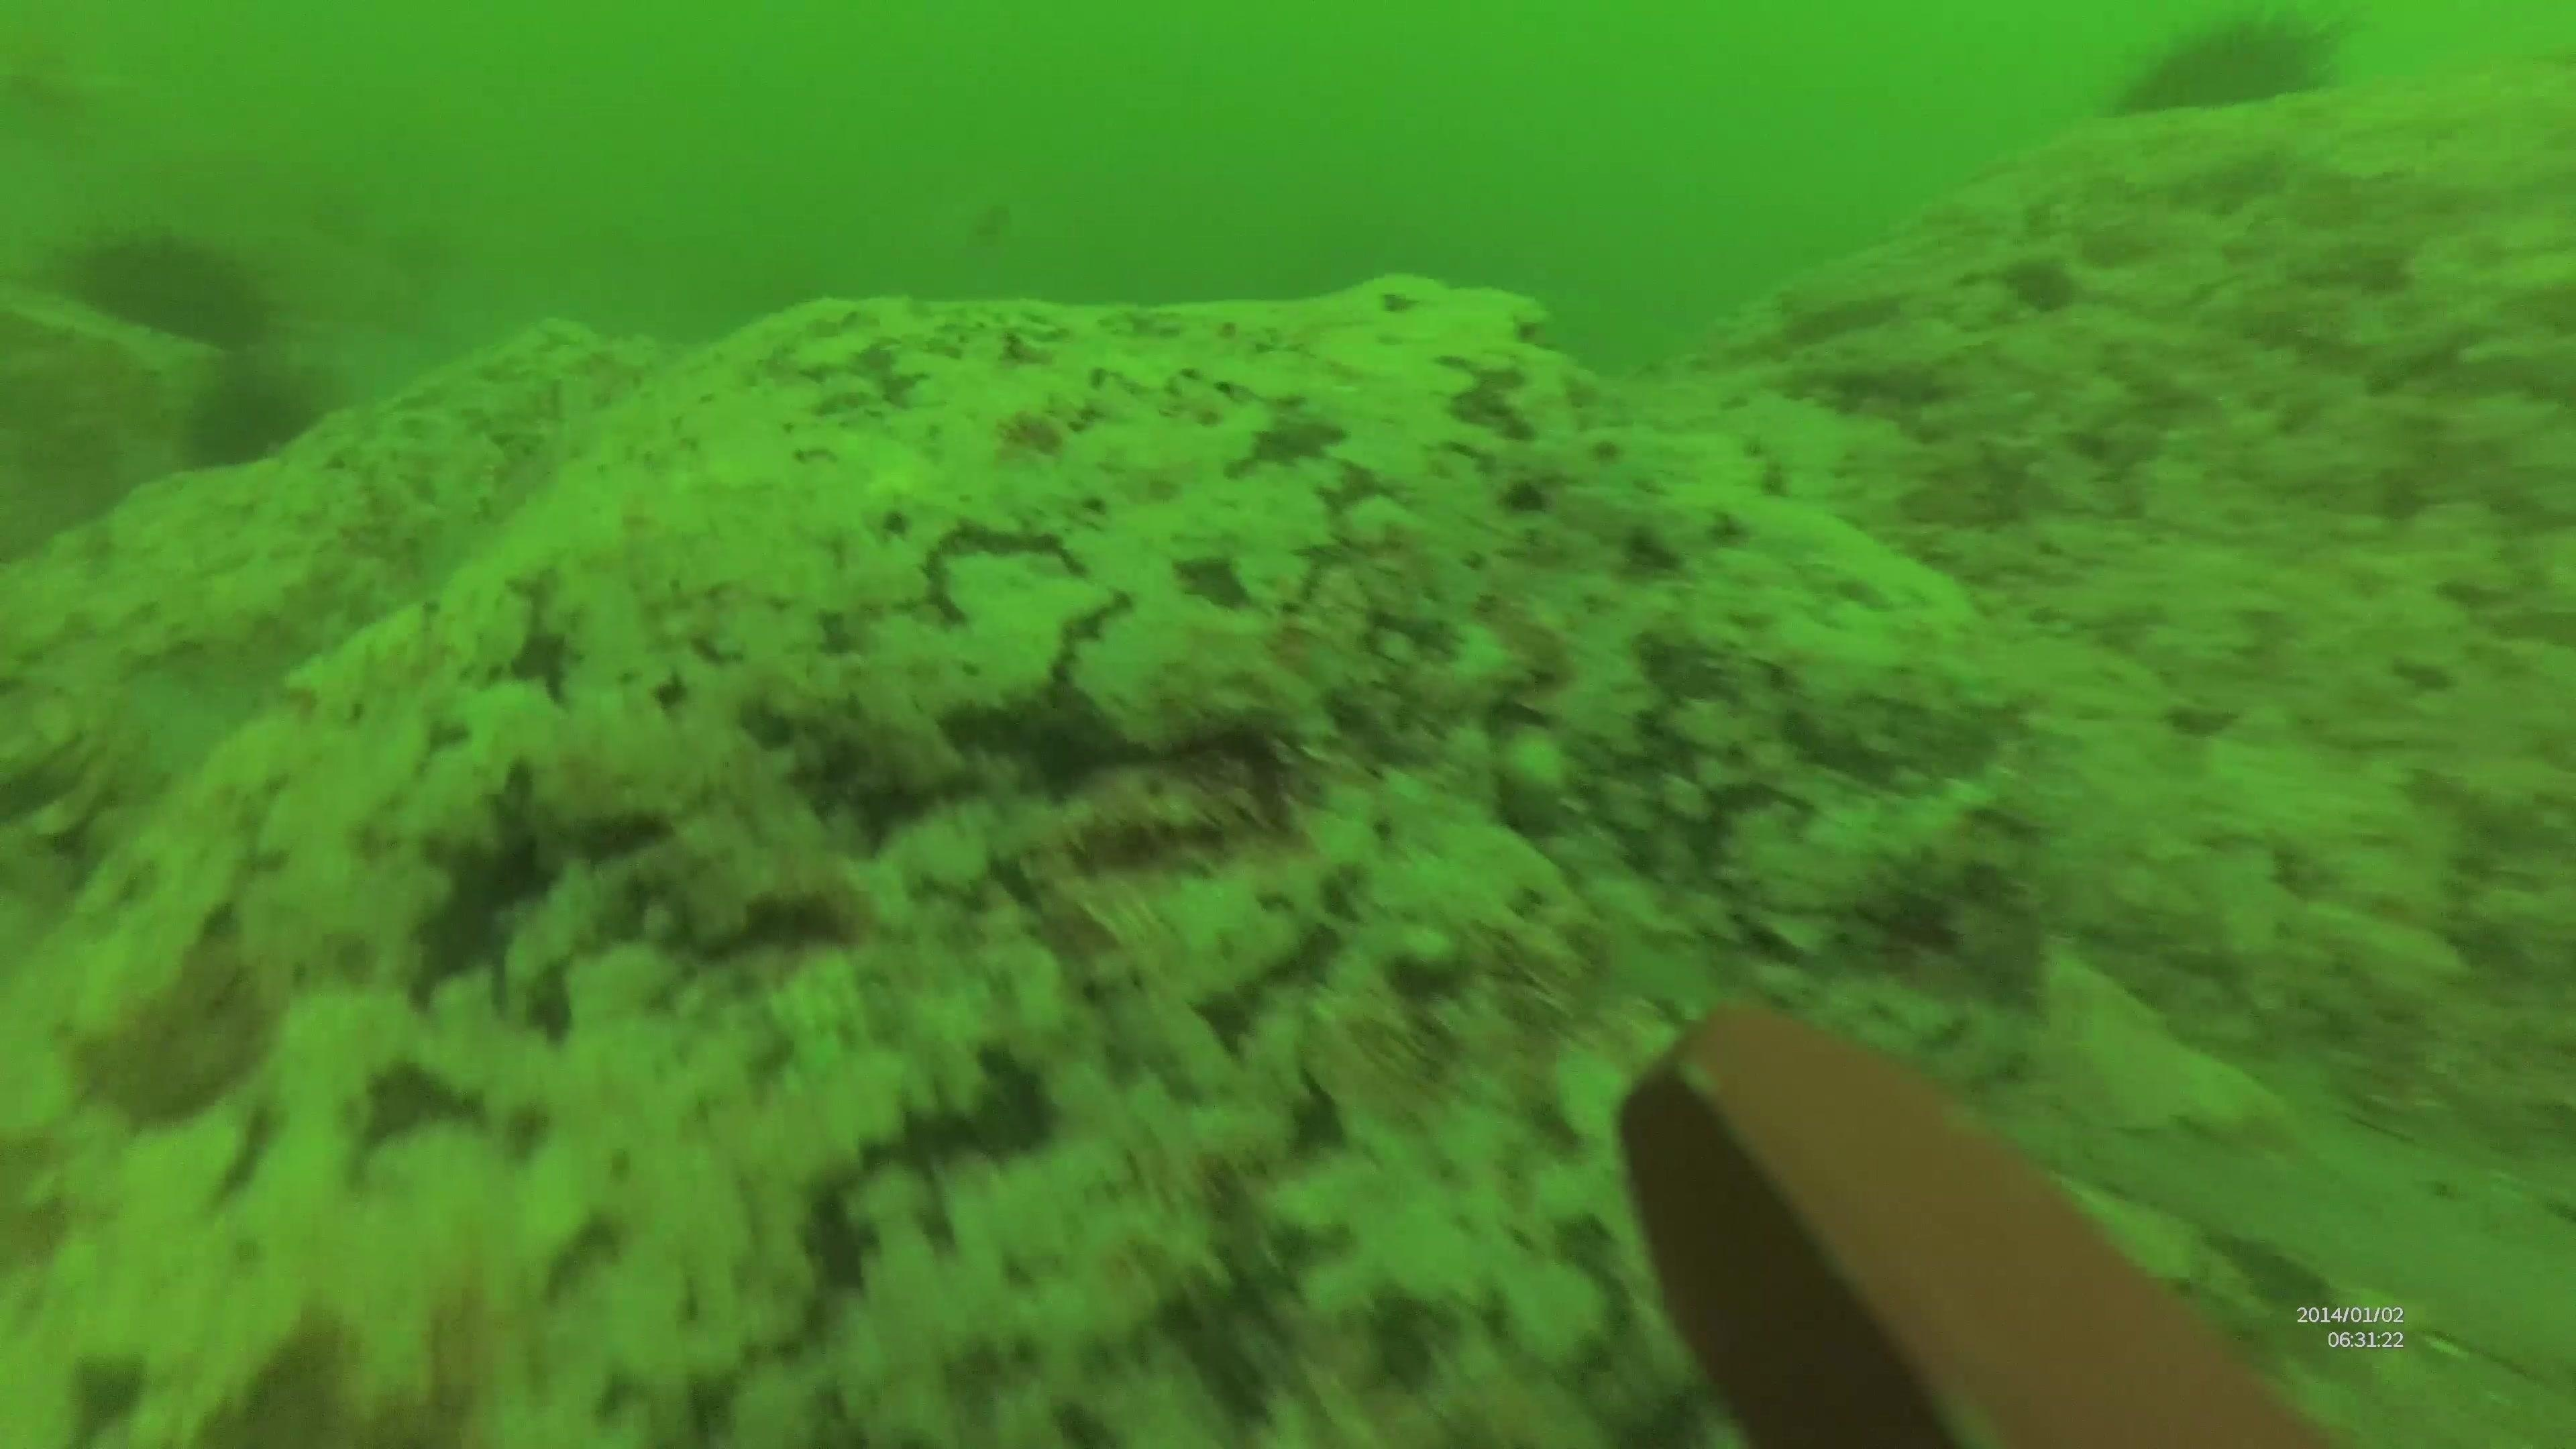echinus: (58, 214, 281, 357), (2104, 5, 2353, 131), (173, 352, 333, 479)
